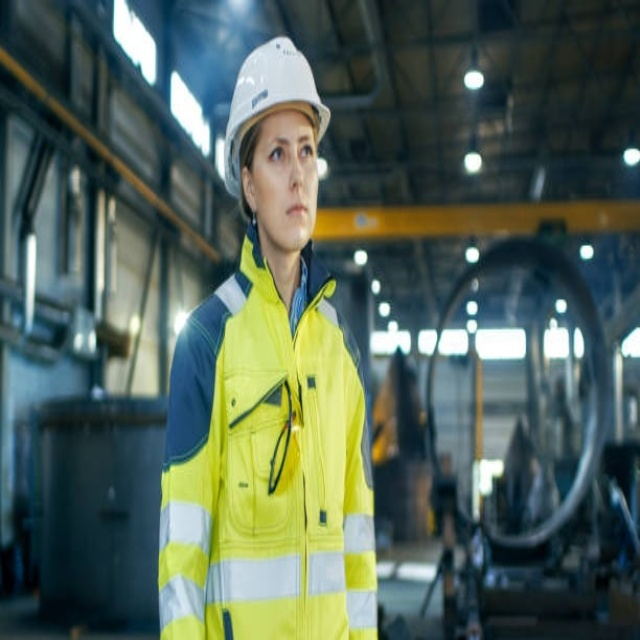Sin_gafas: (260, 130, 317, 169)
Sin_mascara: (279, 197, 315, 238)
